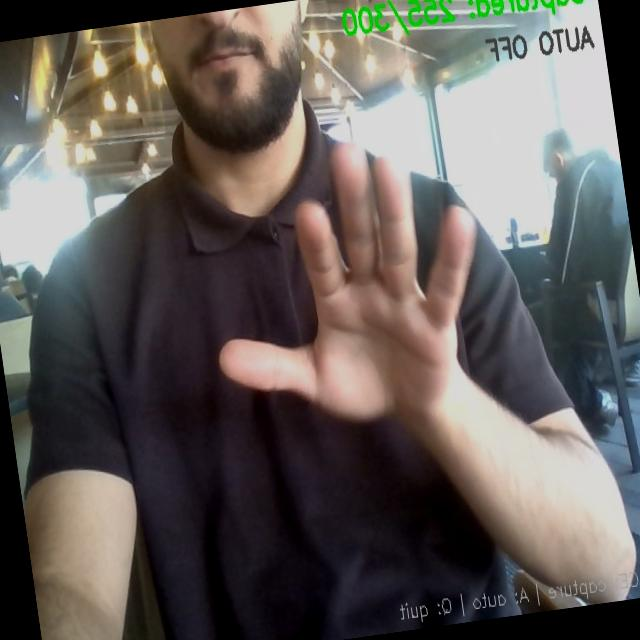Hand: (219, 145, 475, 420)
